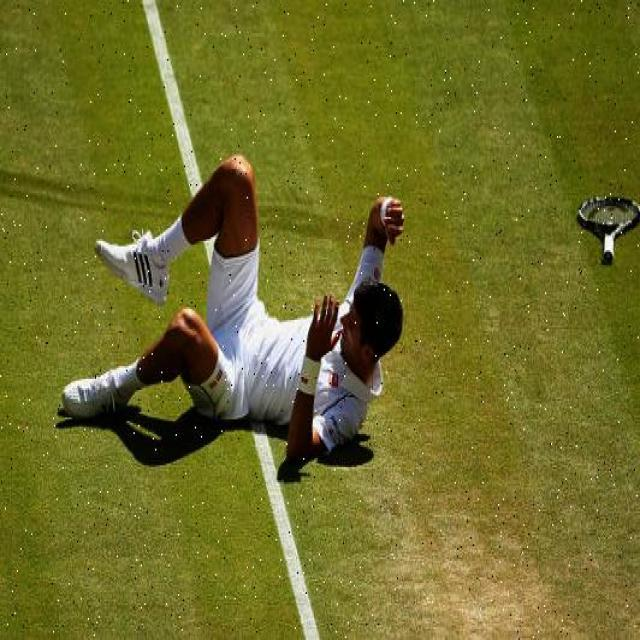fall: (82, 178, 404, 469)
